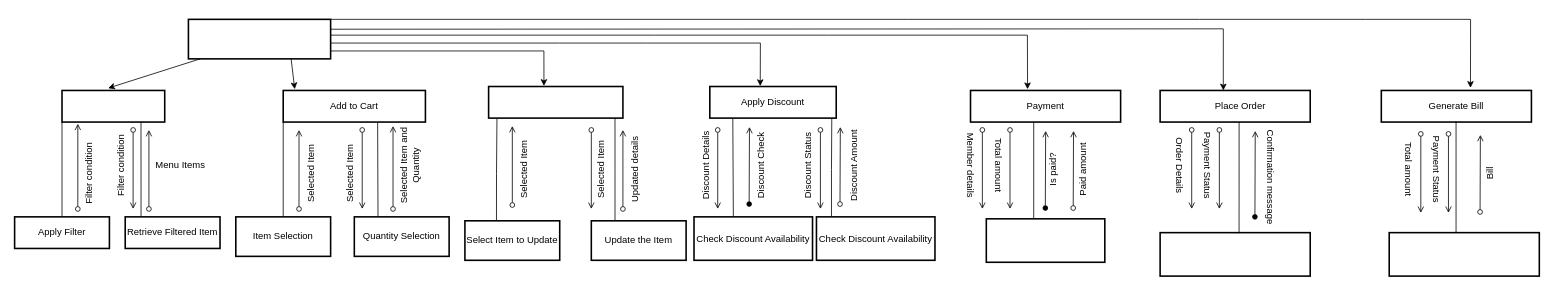
Image size: 1553x291. Some labels were removed from this diagram. The centre of each missing label's shape, as x and y in pixels:
"Bill Receipt" goes at point 1464,253.
"Browse Menu" goes at point 113,105.
"Order Confirmation" goes at point 1235,253.
"Payment Confirmation" goes at point 1045,240.
"Place Order for Home Delivery" goes at point 259,38.
"Update Cart" goes at point 555,101.
